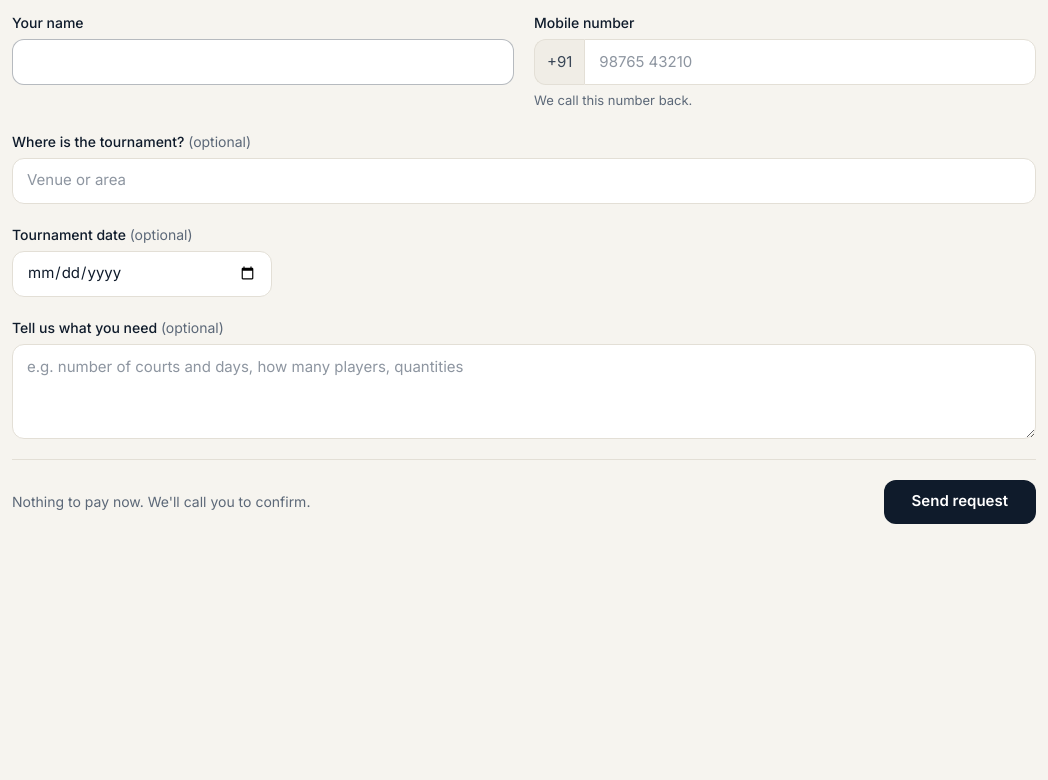
EnquiryForm › explains a failed send ({"name":"ApiError","status":409}) and keeps what was typed
This screenshot has width=1048, height=780.
Type "Anitha" into the field labelled "Your name" at (263, 62), box [12,39,514,85]
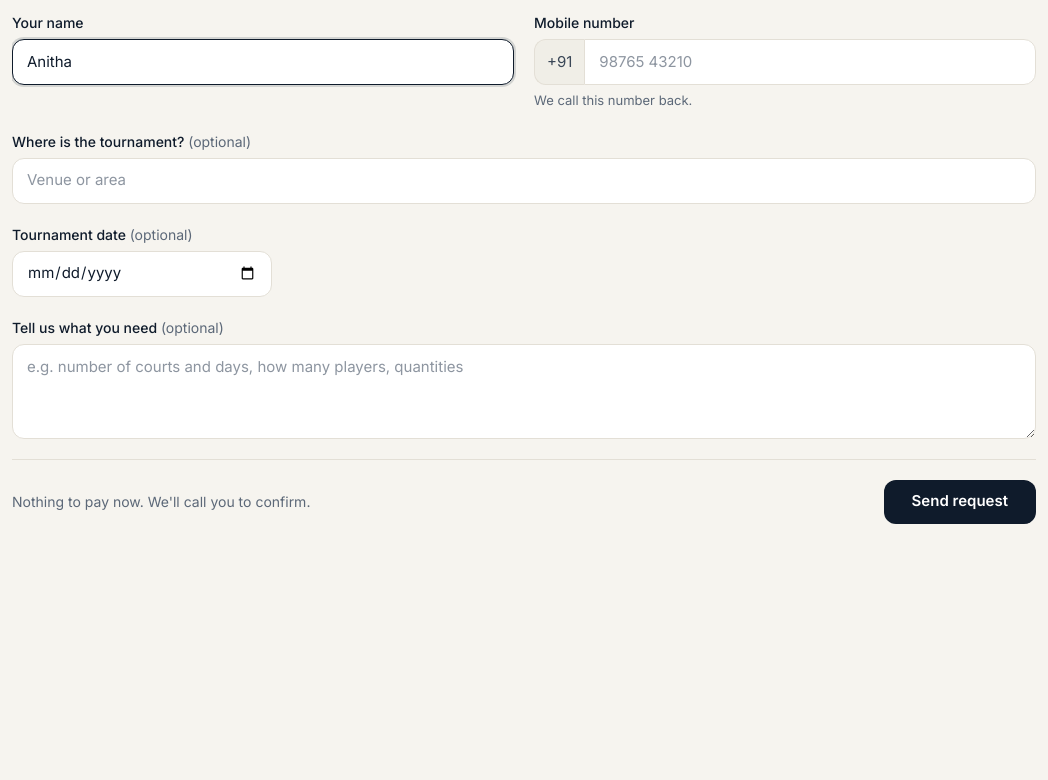
Type "9876543210" into the field labelled "Mobile number" at (810, 62), box [584,39,1036,85]
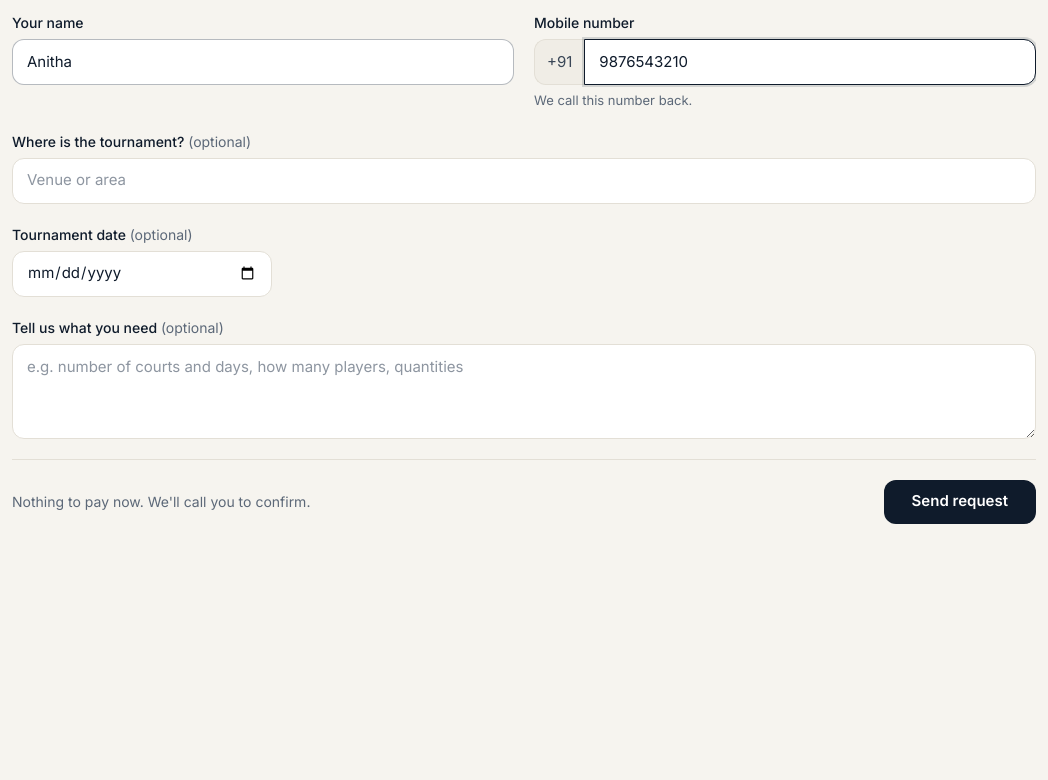
Click the button "Send request" at (960, 502), box [884,480,1036,524]
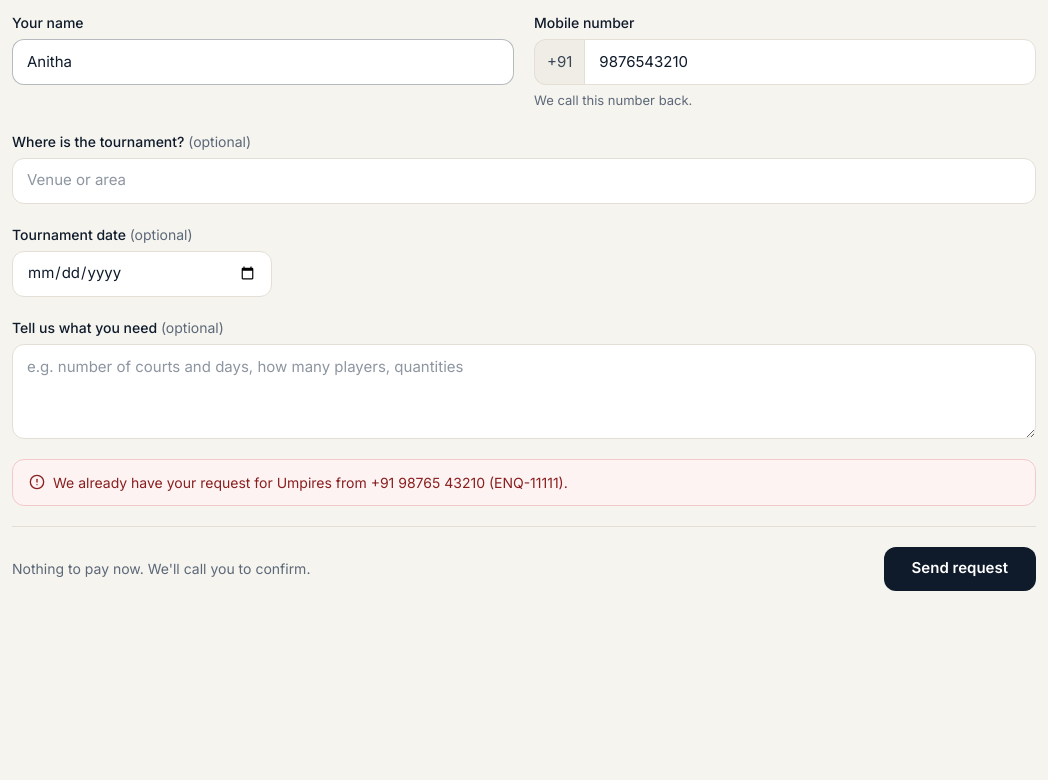
expect the message shows "We already have your request for Umpires": met, box [53,474,568,491]
